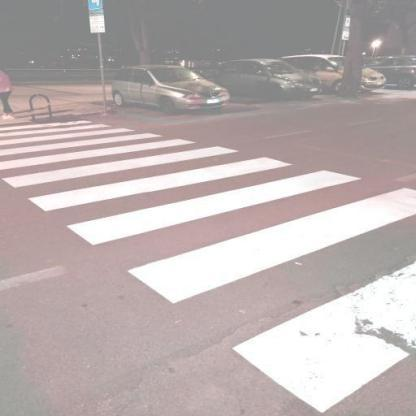crosswalk: (25, 143, 367, 253)
